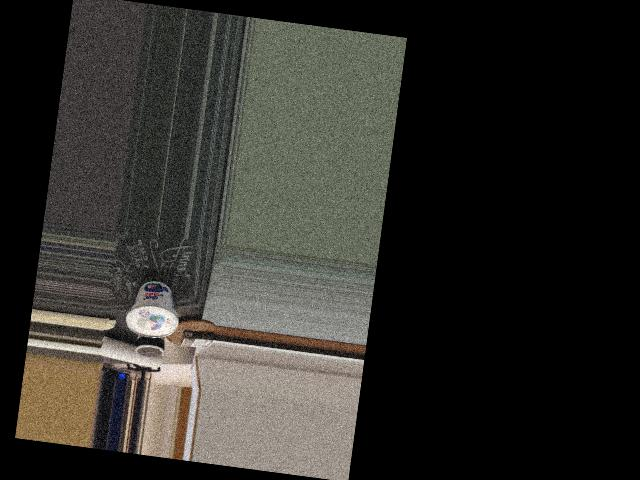cotage: (123, 274, 180, 341)
